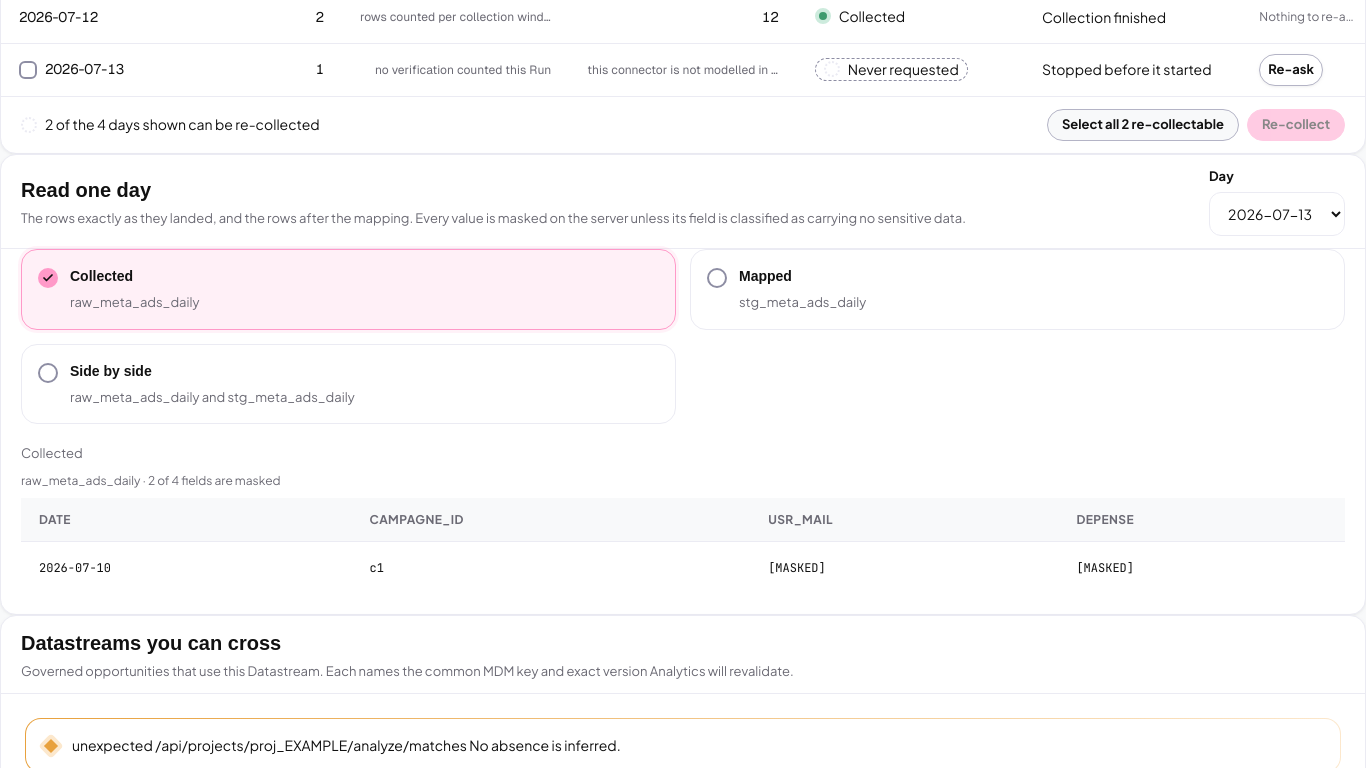
it: Data tab, read by day › puts the raw value and the value it becomes on ONE row
(page scrolled)
Click the radio button labelled "Side by side" at (111, 371), box [21, 344, 676, 424]
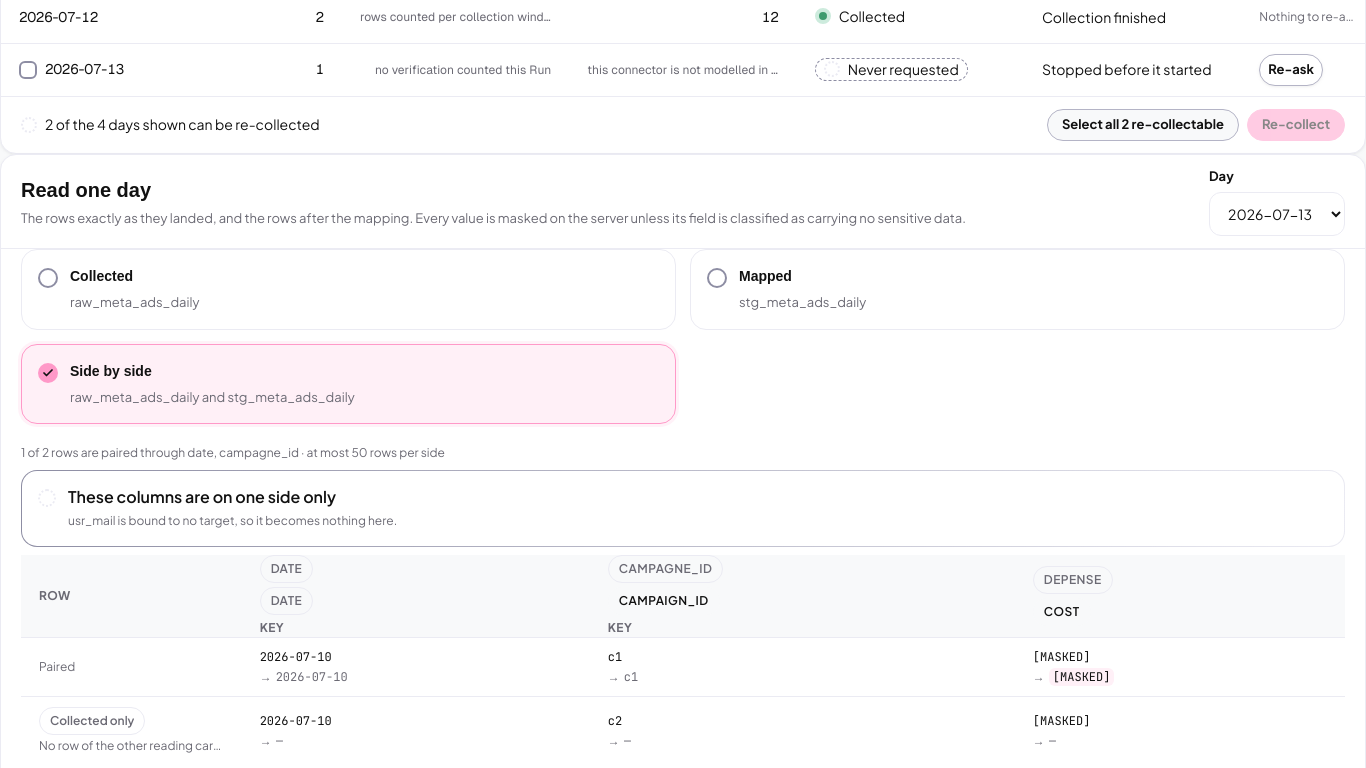
Expected: the text "campagne_id" is shown, [619, 560, 712, 578]
Expected: the text "campaign_id" is shown, [619, 592, 709, 610]
